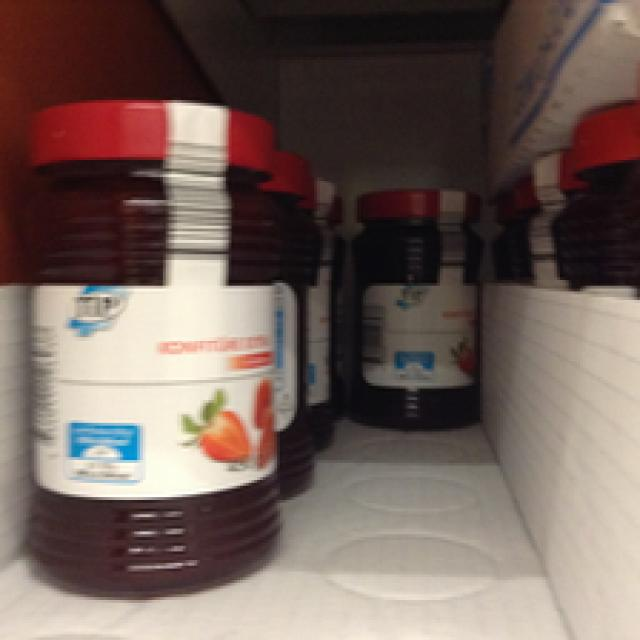groceries: (20, 97, 280, 600), (348, 183, 483, 428)
